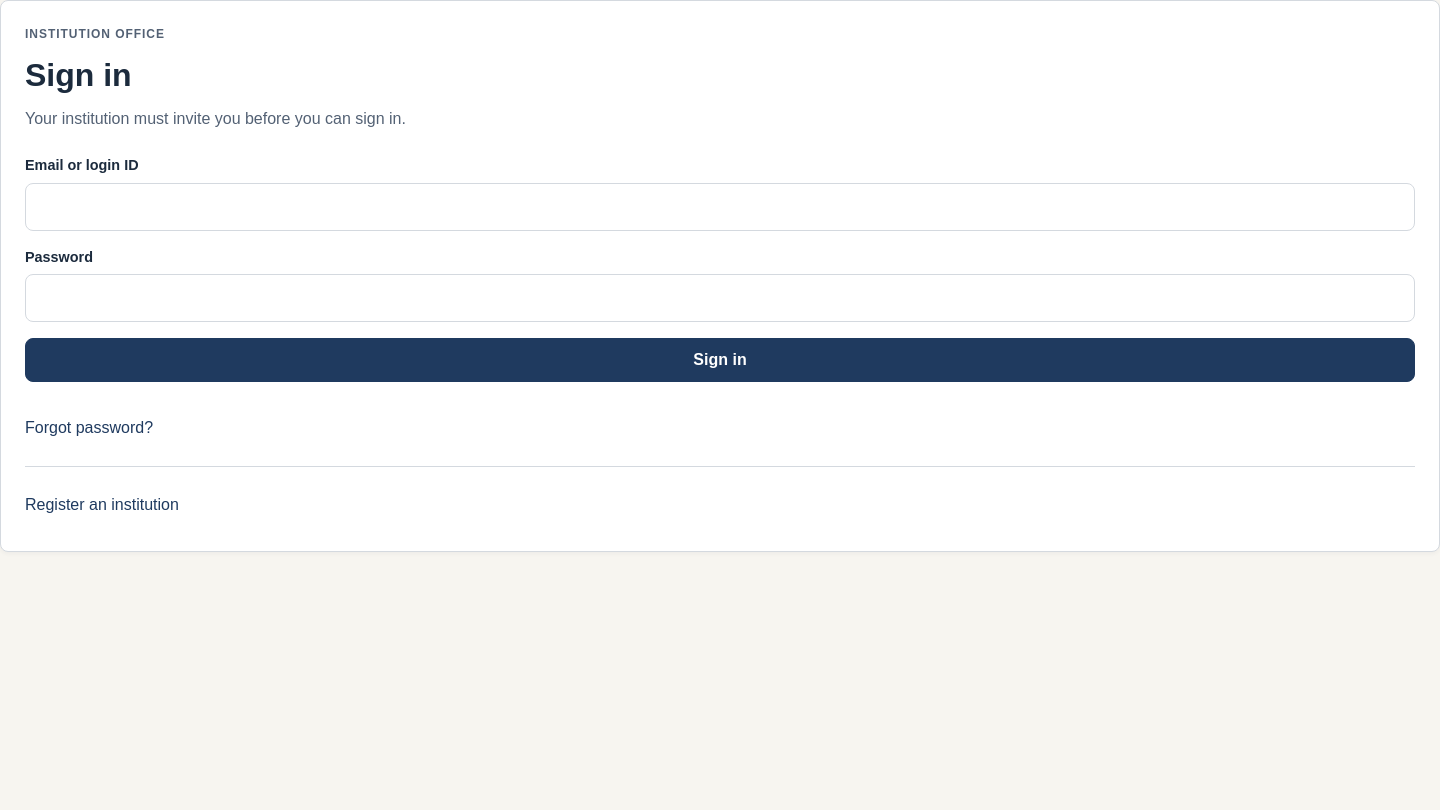
Test: invite-only login › shows authentication errors
Type "unknown" into the field labelled "Email or login ID" at [720, 207], box [25,183,1415,231]
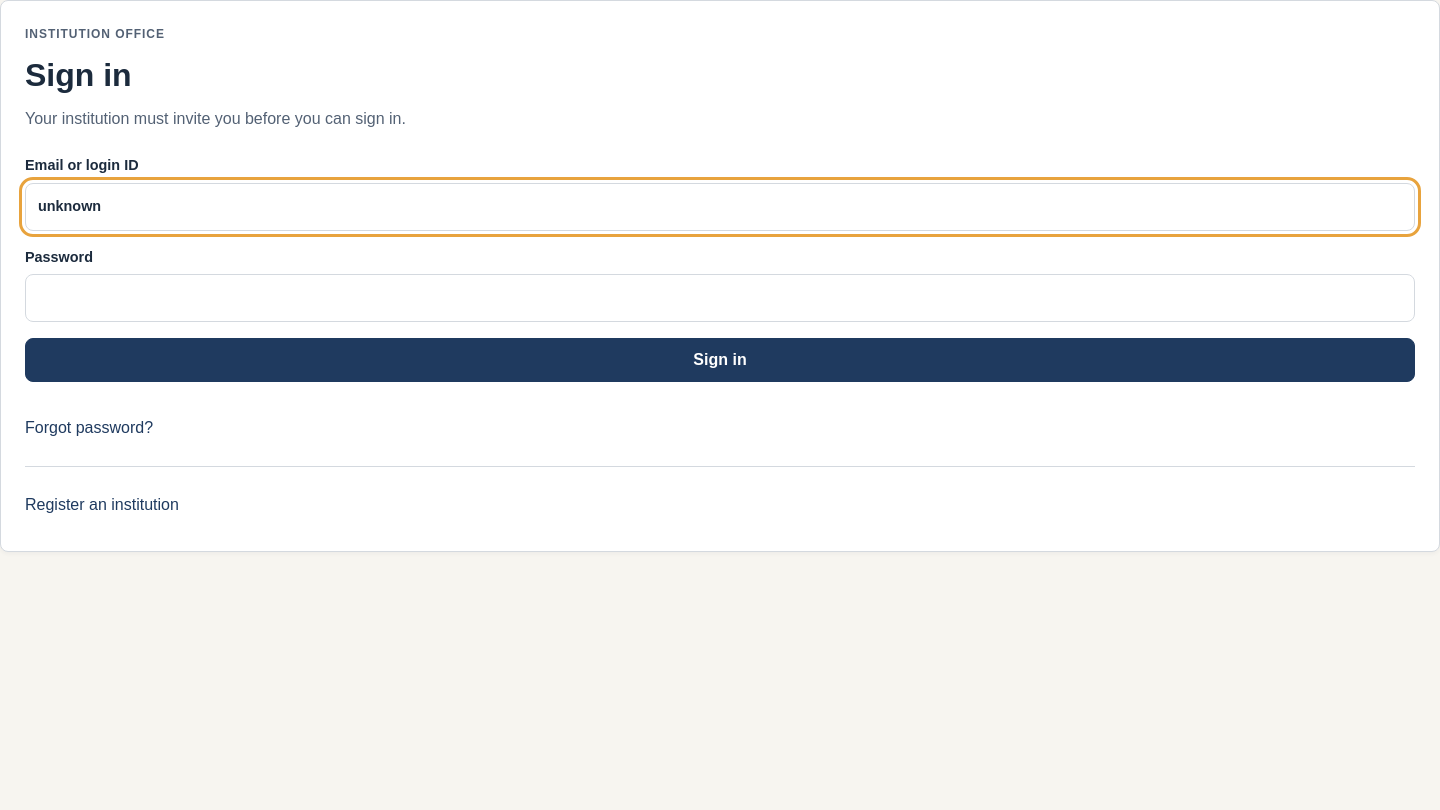
Type "wrong" into the password field labelled "Password" at [720, 298], box [25,274,1415,322]
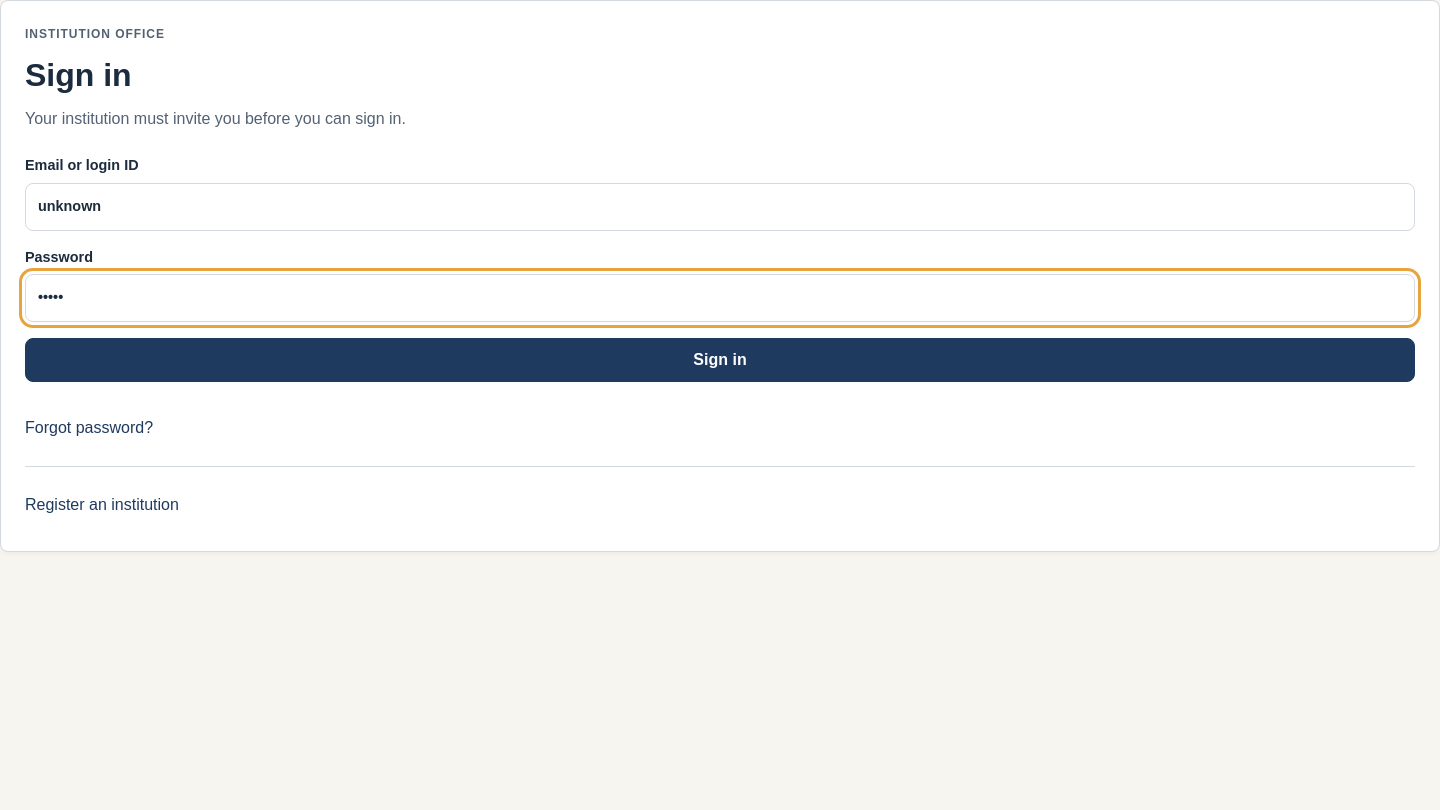
Click the button "Sign in" at [720, 360], box [25,338,1415,382]
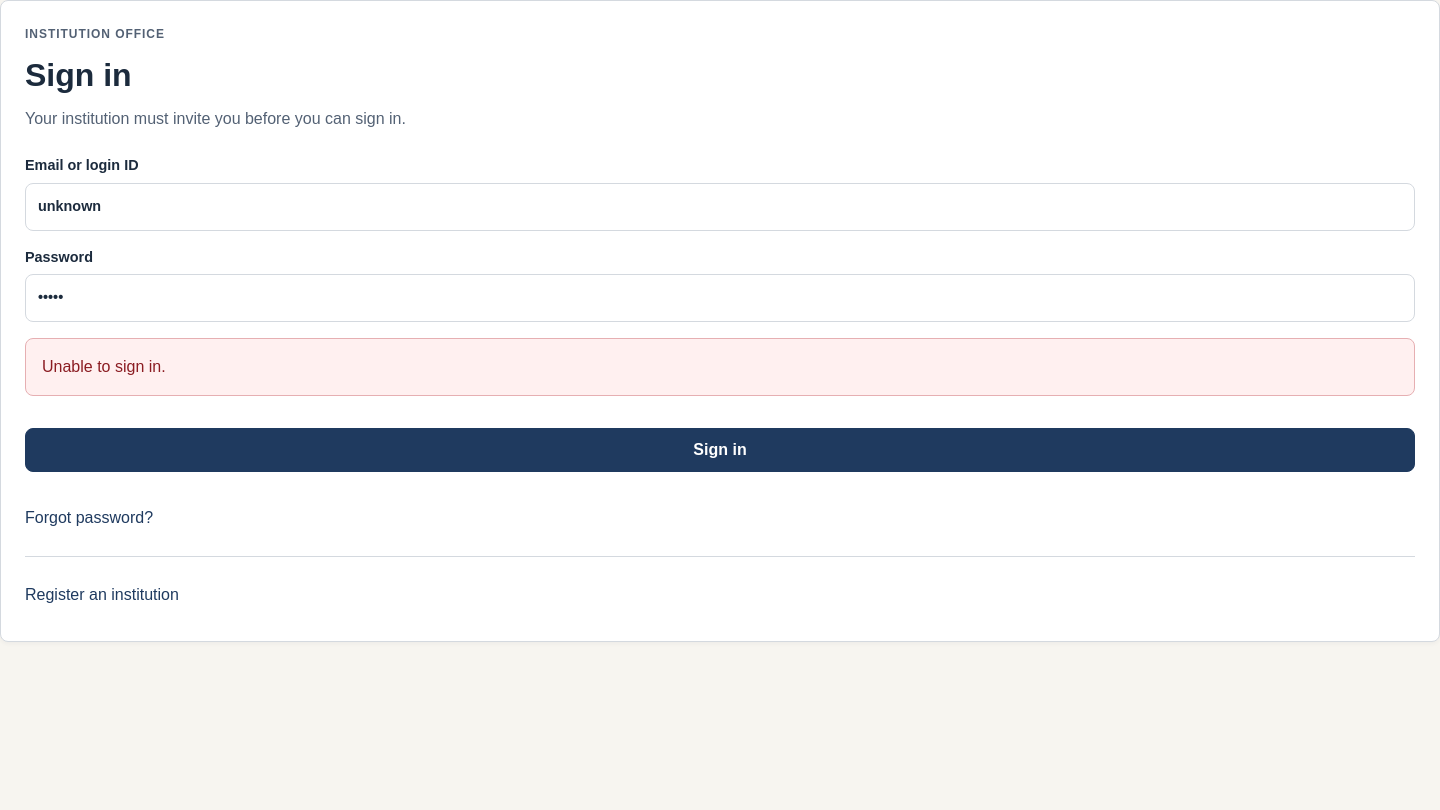
Check: the message reads "Unable to sign in.", box [42,358,166,375]
